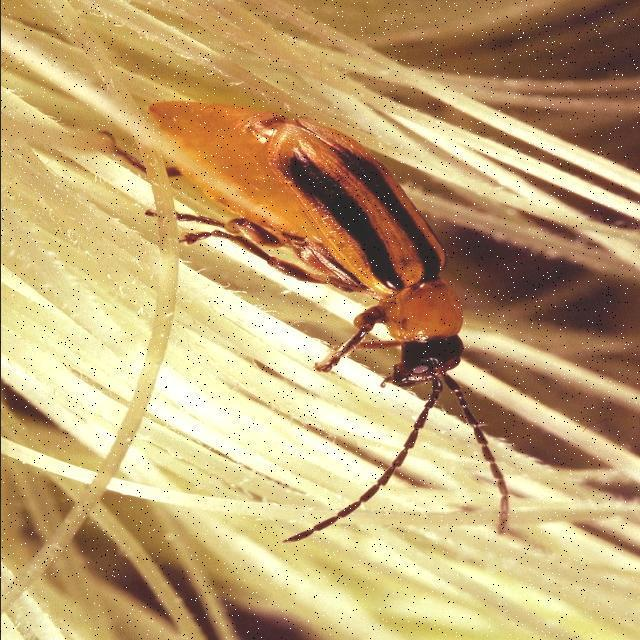trips: (100, 98, 510, 543)
